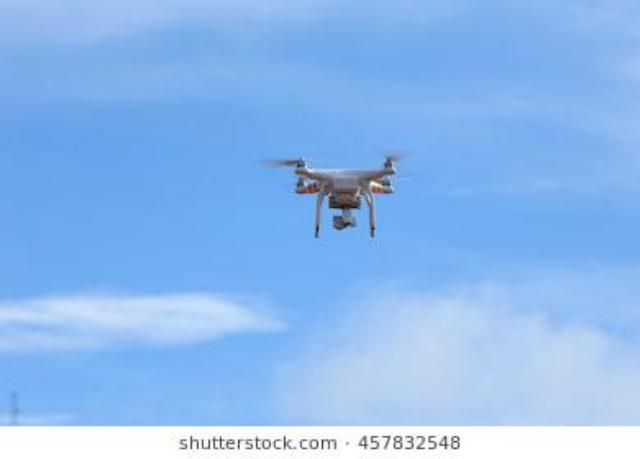drone: (259, 133, 426, 255)
